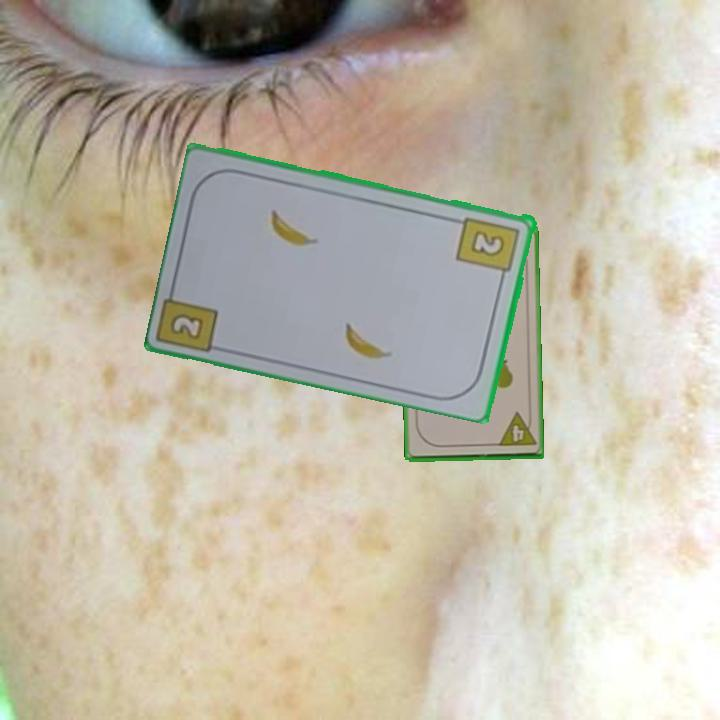2b: (454, 213, 523, 283), (170, 312, 204, 339)
4p: (494, 409, 539, 449)
